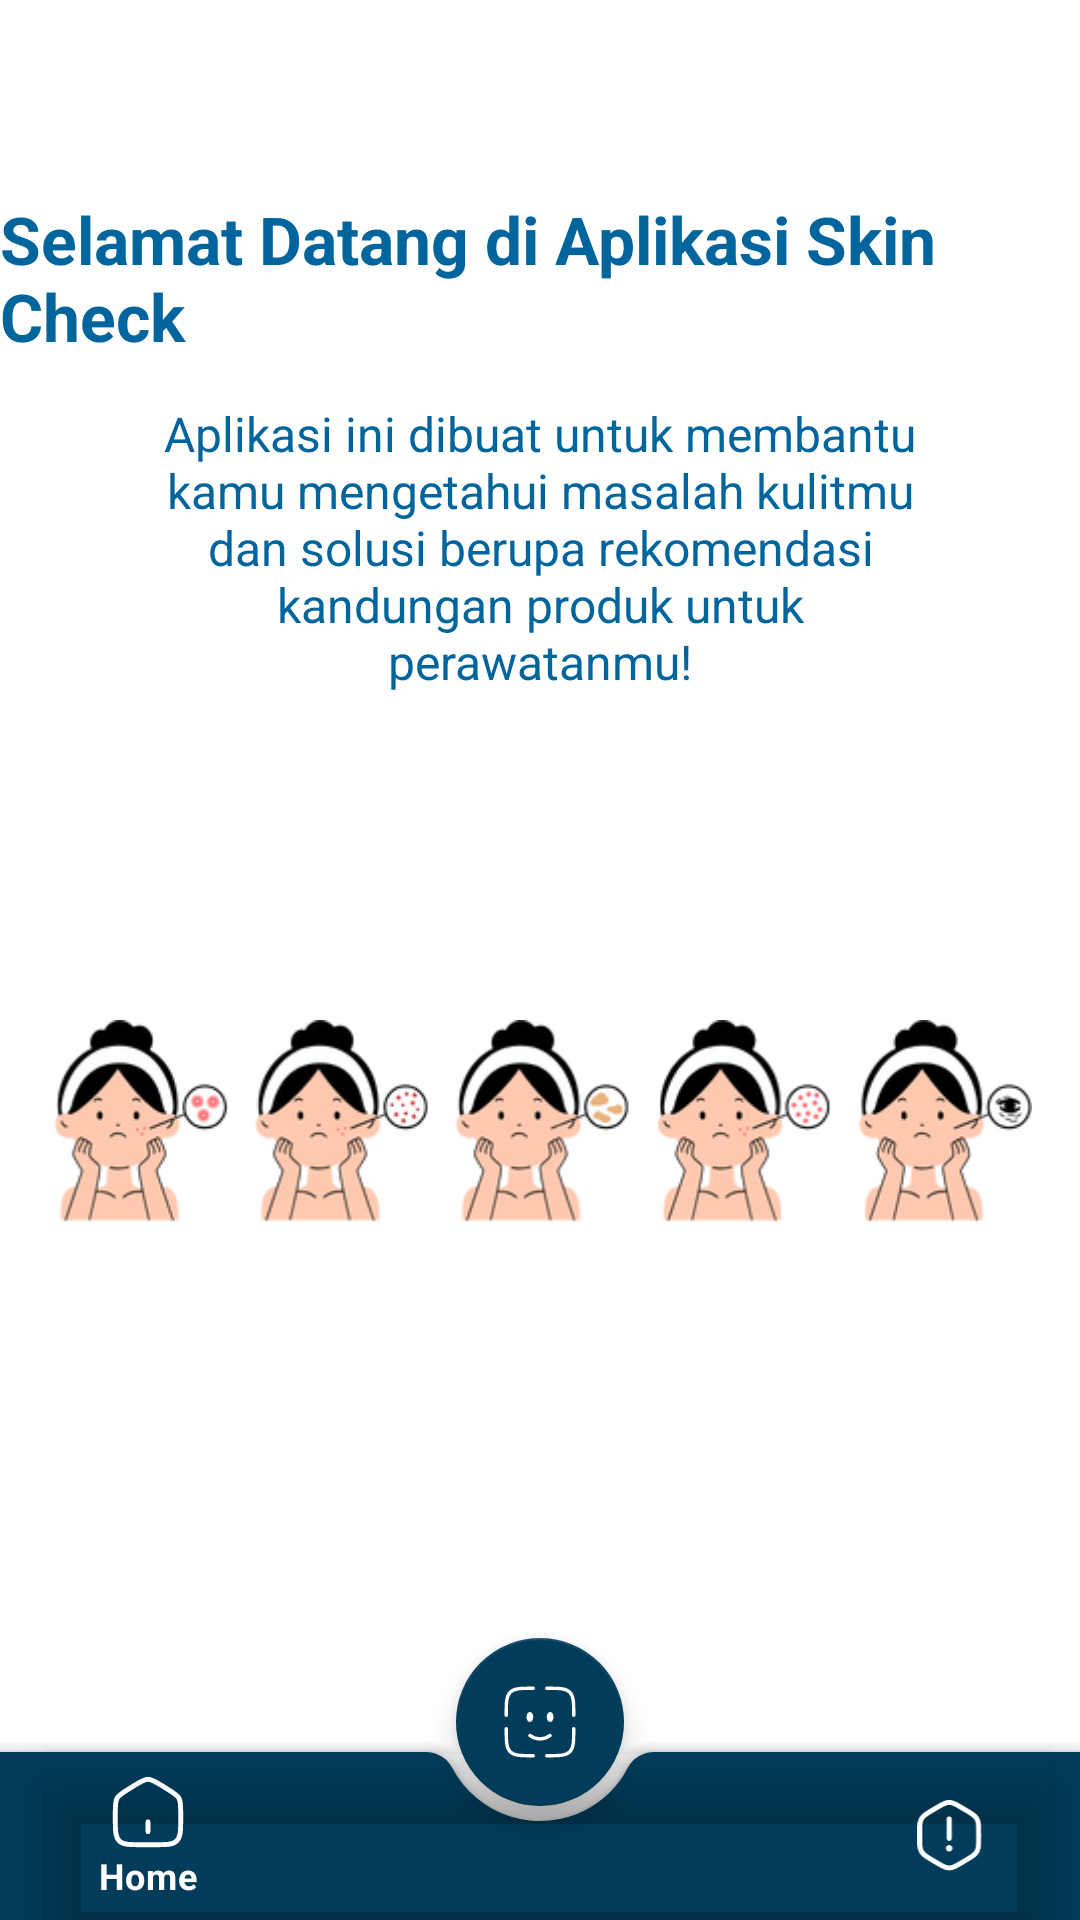

Where icons sit on this 1080px×1920px app screen, as (x1, y1, x2, y2):
scan: (456, 1668, 624, 1822)
